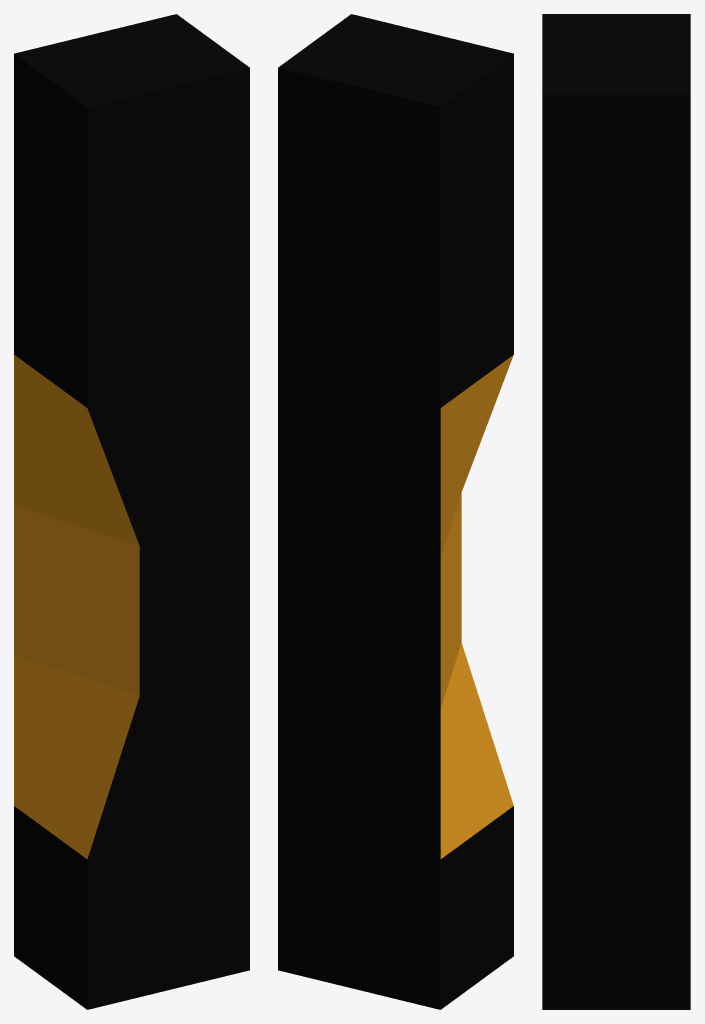
File: WoodenBoard_3.fbx
3 views of the same model, side by side, from view 1: azimuth 30°, elevation 25°; view 2: azimuth 150°, elevation 25°; view 3: azimuth 270°, elevation 25° (orthographic).
Visible parts, largest first — view 1: Cube; view 2: Cube; view 3: Cube.
Boxes of the visible parts, x1,y1,x2,y2 form: Cube: [14, 14, 249, 1009]; Cube: [278, 14, 513, 1009]; Cube: [542, 14, 690, 1009].
Size of the model in its own units: 37.67 by 200 by 29.43.
